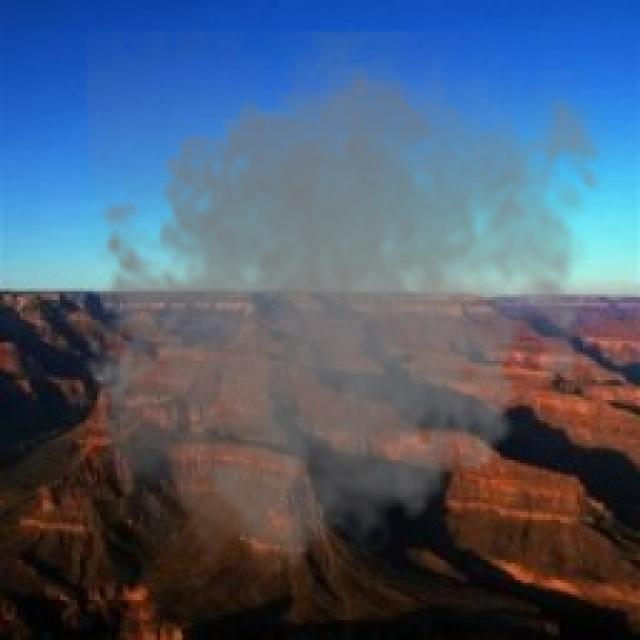Smoke: (74, 31, 617, 598)
